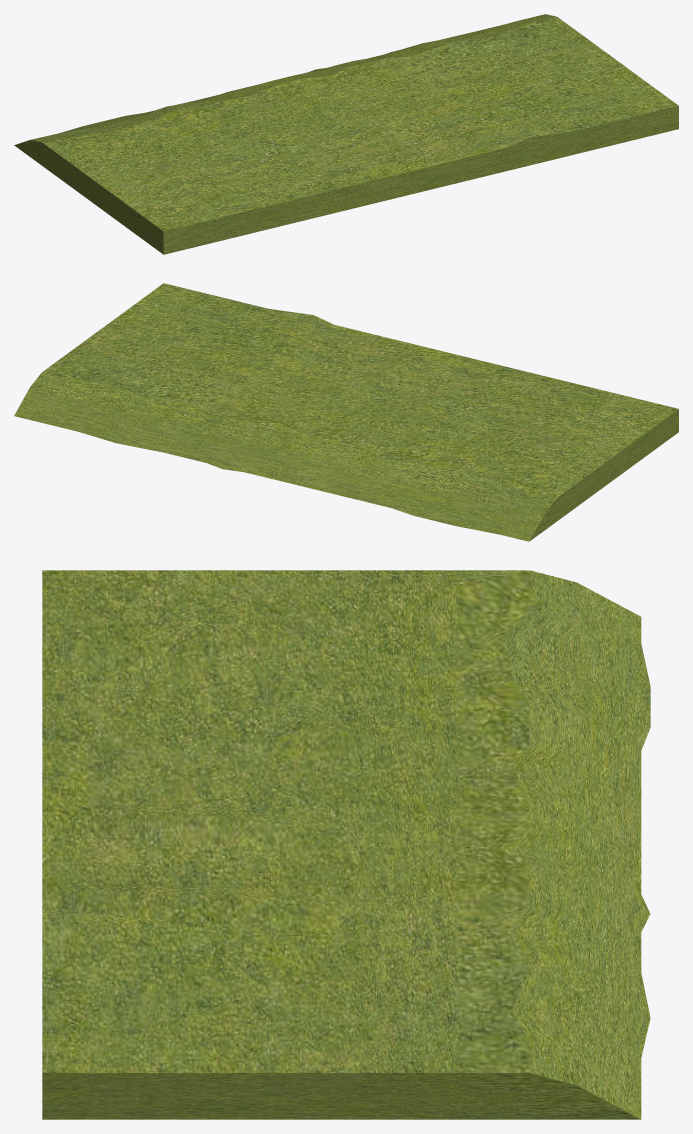
File: BackyardHill.fbx
The picture shows the model from 3 angles, top to bottom: view 1: azimuth 30°, elevation 25°; view 2: azimuth 150°, elevation 25°; view 3: azimuth 270°, elevation 25°; orthographic projection. The views are drawn at different scales.
Visible parts, largest first — view 1: BackyardHill; view 2: BackyardHill; view 3: BackyardHill.
Part boxes in pixels (x1=…): BackyardHill: x1=14, y1=14, x2=678, y2=254; BackyardHill: x1=14, y1=283, x2=678, y2=541; BackyardHill: x1=42, y1=570, x2=650, y2=1119.
Size of the model in its own units: 199 by 10.33 by 102.
